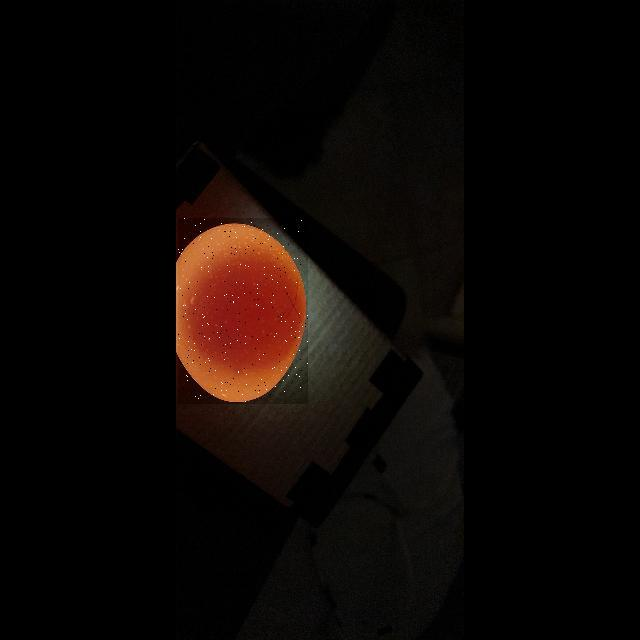A - Good: (178, 218, 308, 404)
